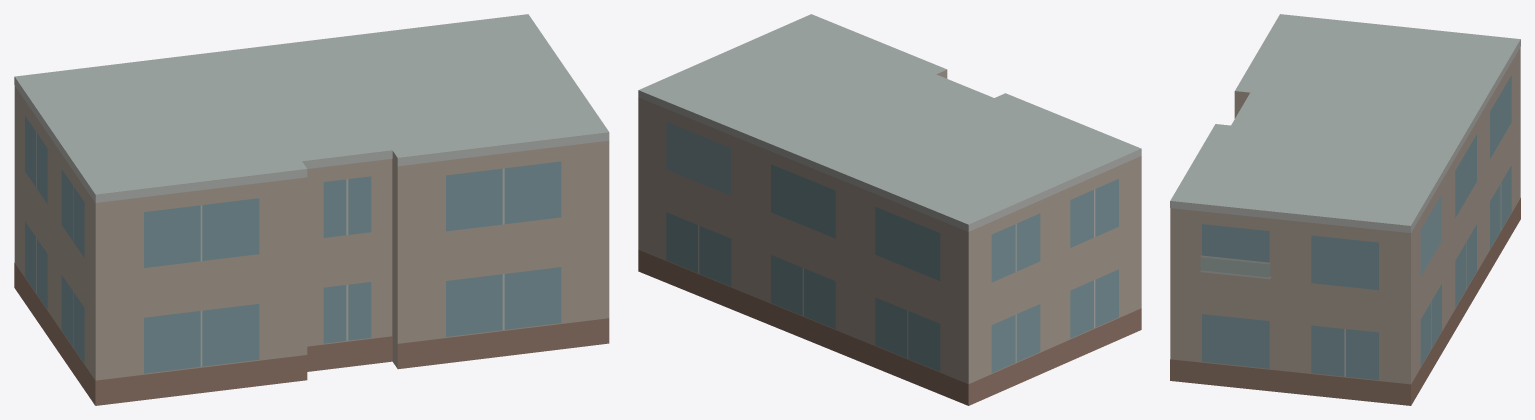
Rendered from survey-upis-32562521.glb.
The picture shows the model from 3 angles, left to right: view 1: azimuth 30°, elevation 25°; view 2: azimuth 150°, elevation 25°; view 3: azimuth 270°, elevation 25°; orthographic projection. The views are drawn at different scales.
Visible parts, largest first — view 1: survey-upis-32562521.tmp; view 2: survey-upis-32562521.tmp; view 3: survey-upis-32562521.tmp.
Boxes of the visible parts, x1,y1,x2,y2 form: survey-upis-32562521.tmp: (14,14,609,405); survey-upis-32562521.tmp: (638,14,1141,405); survey-upis-32562521.tmp: (1170,14,1520,405).
Size of the model in its own units: 15.42 by 6.1 by 10.78.
